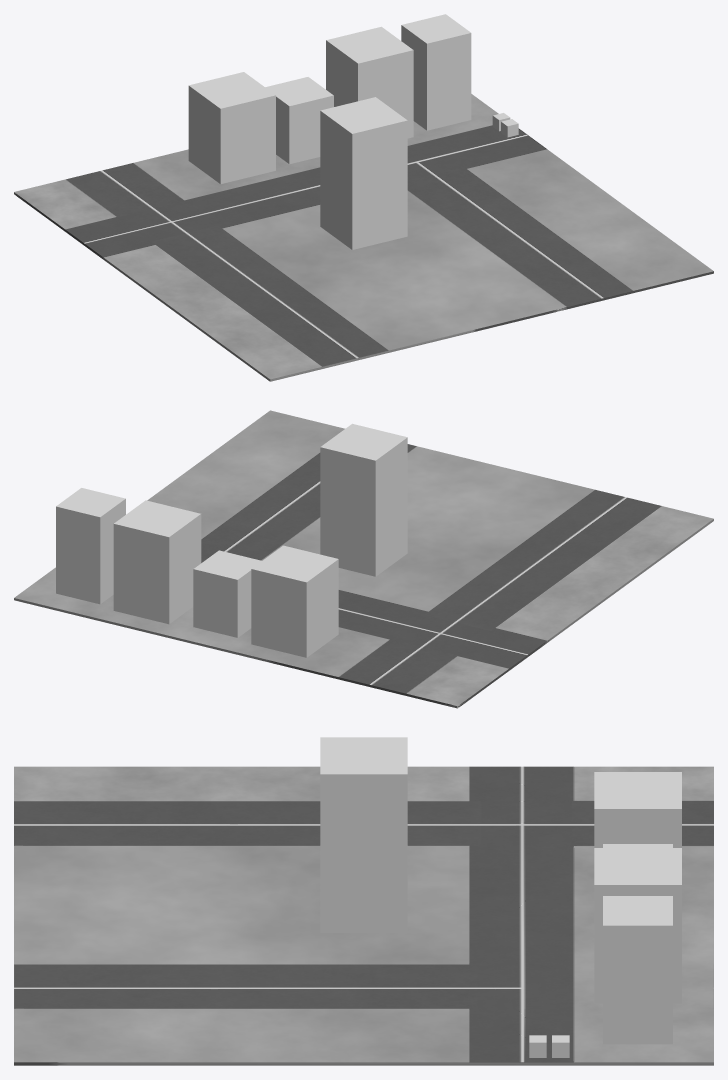
Rendered from map_town.gltf.
3 renders of one model, top to bottom at view 1: azimuth 30°, elevation 25°; view 2: azimuth 150°, elevation 25°; view 3: azimuth 270°, elevation 25°, orthographic. The views are drawn at different scales.
Parts seen in each view (by area): view 1: Ground, 立方体.001, 立方体.006, 立方体.002, 立方体.003, 立方体.005; view 2: Ground, 立方体.001, 立方体.003, 立方体.006, 立方体.002, 立方体.005; view 3: Ground, 立方体.001, 立方体.002, 立方体.006, 立方体.003.
Part boxes in pixels (left/top/right/bottom): Ground: left=14, top=94, right=713, bottom=381; 立方体.001: left=320, top=97, right=407, bottom=249; 立方体.006: left=188, top=72, right=275, bottom=184; 立方体.002: left=401, top=14, right=471, bottom=130; 立方体.003: left=326, top=26, right=413, bottom=138; 立方体.005: left=265, top=77, right=333, bottom=164; Ground: left=14, top=410, right=713, bottom=708; 立方体.001: left=320, top=423, right=407, bottom=576; 立方体.003: left=113, top=500, right=201, bottom=624; 立方体.006: left=251, top=545, right=338, bottom=657; 立方体.002: left=56, top=488, right=125, bottom=604; 立方体.005: left=193, top=550, right=261, bottom=637; Ground: left=14, top=766, right=713, bottom=1065; 立方体.001: left=320, top=737, right=407, bottom=932; 立方体.002: left=603, top=896, right=672, bottom=1044; 立方体.006: left=594, top=772, right=681, bottom=847; 立方体.003: left=594, top=848, right=681, bottom=1003.
Bounding box in the file's own units: 80 × 20.4 × 80.
Materials: 2 (1 with a texture image).
